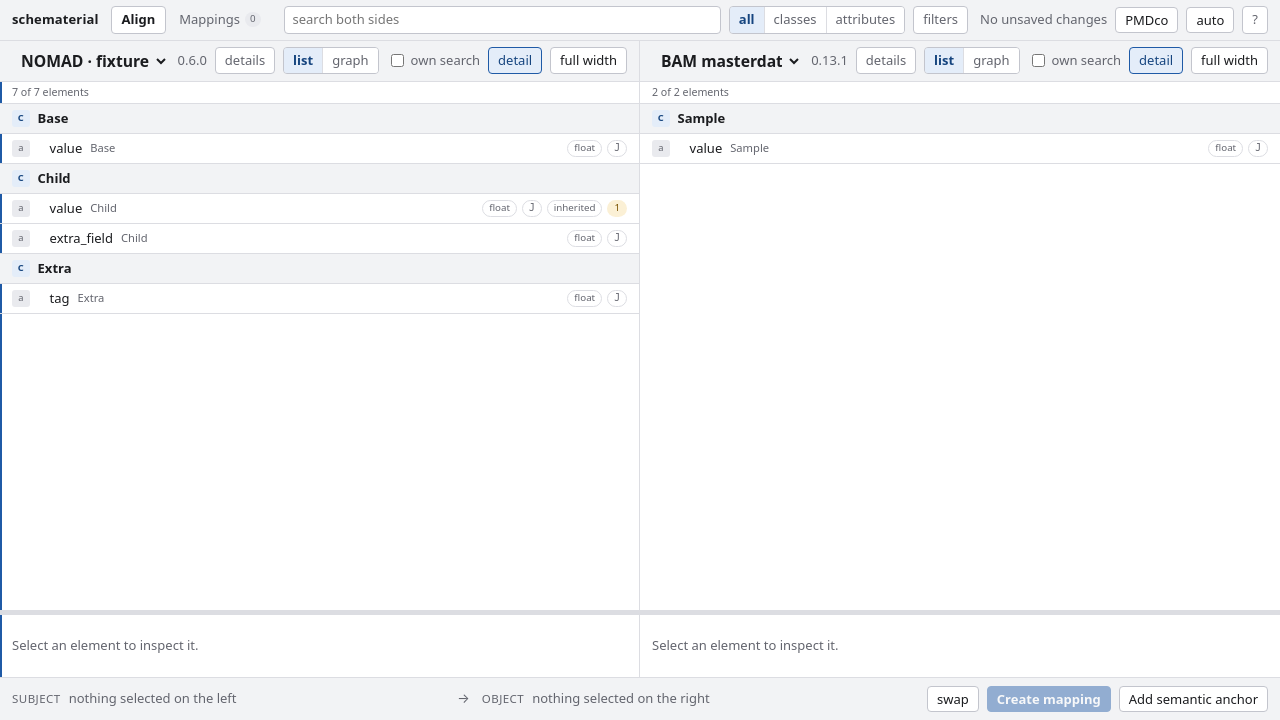
it: choosing what appears on either side › shows a refused import on the side that chose it and leaves the other browsable
The image size is (1280, 720).
Select "nomad-simulations · refused — unsupported" in the dropdown named "schema on the right" at point(728, 60), box [652,46,803,76]
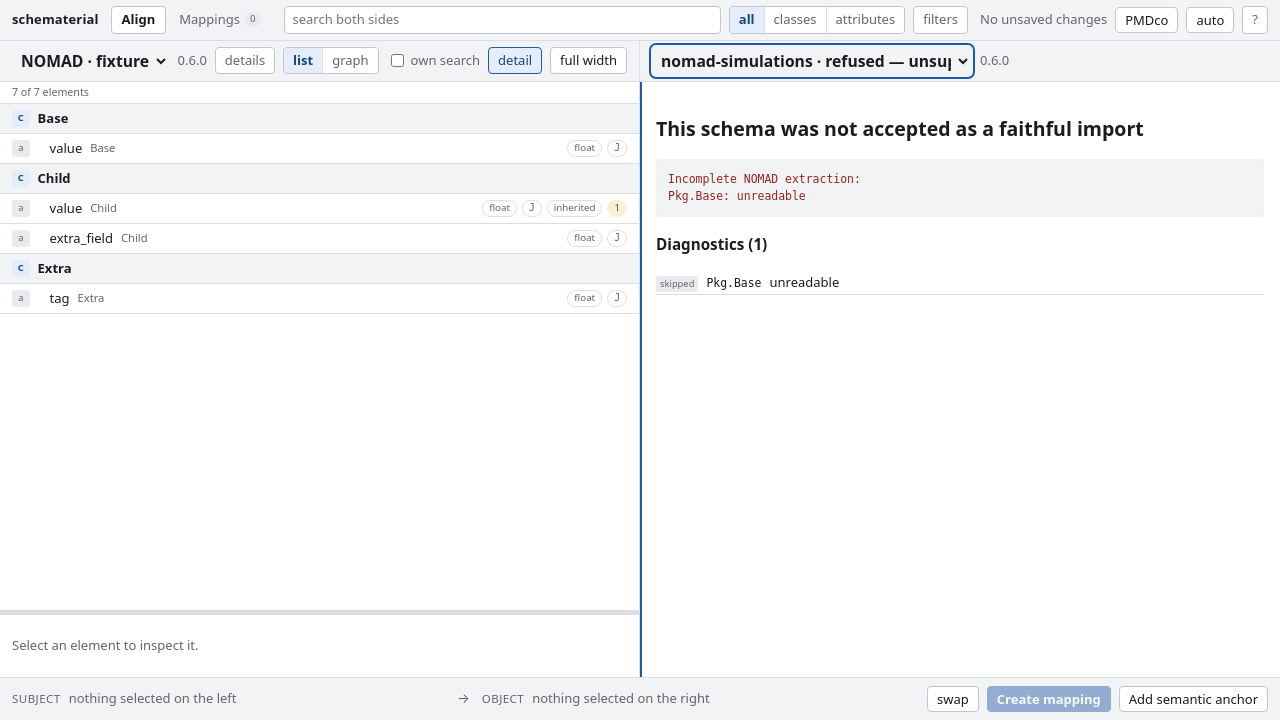
Now the heading "This schema was not accepted as a faithful import" is shown, box [656,115,1144,142]
Now the text "Incomplete NOMAD extraction: Pkg.Base: unreadable" is shown, box [656,159,1264,217]
Now the text "unreadable" is shown, box [770,273,839,292]
